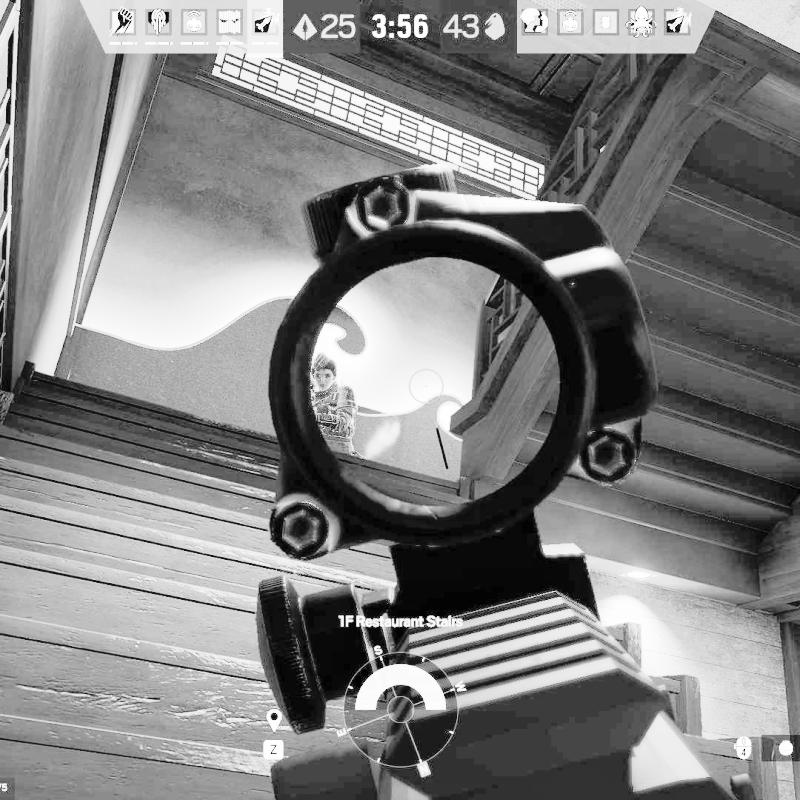Character: (309, 349, 360, 458)
Head: (310, 351, 339, 391)
